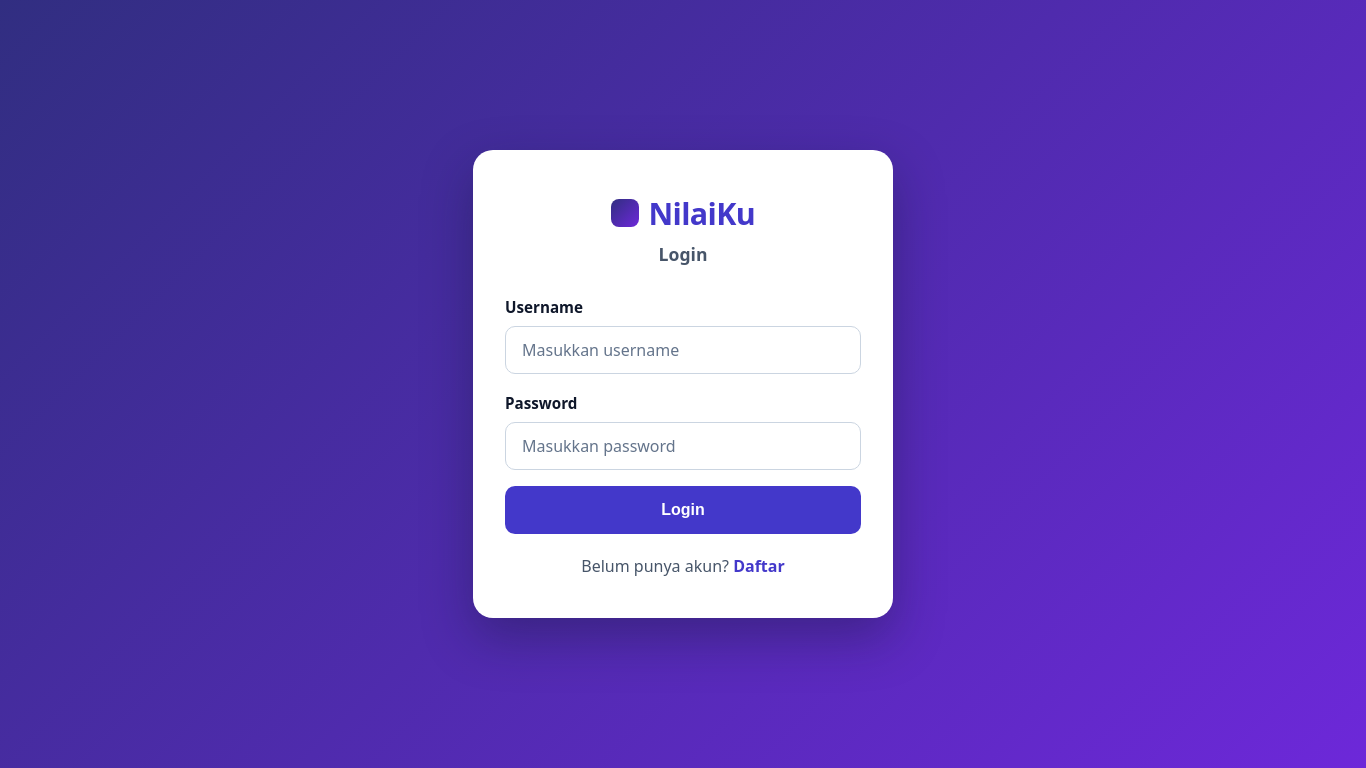
Test: Login › menampilkan pesan default jika server tidak merespons
The image size is (1366, 768).
Type "budi" into the field labelled "Username".
click(683, 350); type("budi")  # box [505,326,861,374]
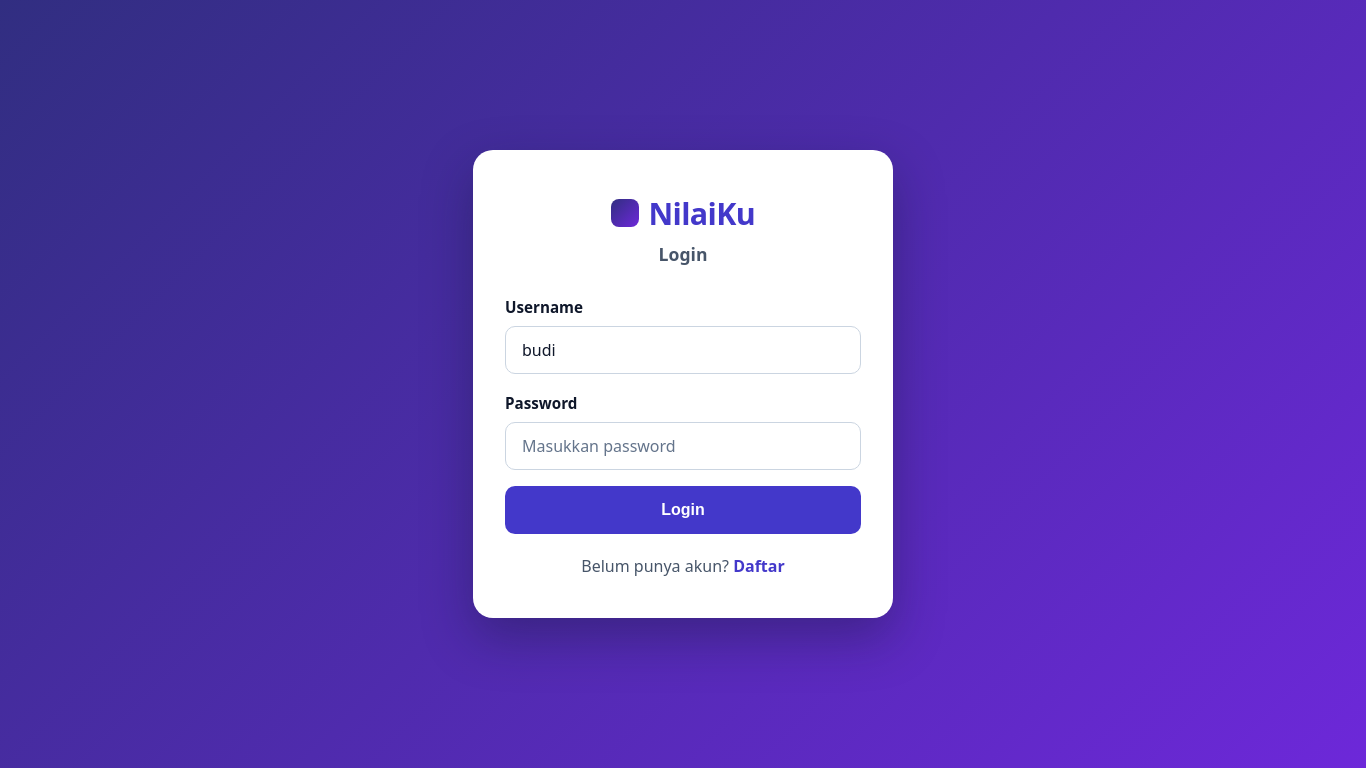
Type "salah" into the password field labelled "Password".
click(683, 446); type("salah")  # box [505,422,861,470]
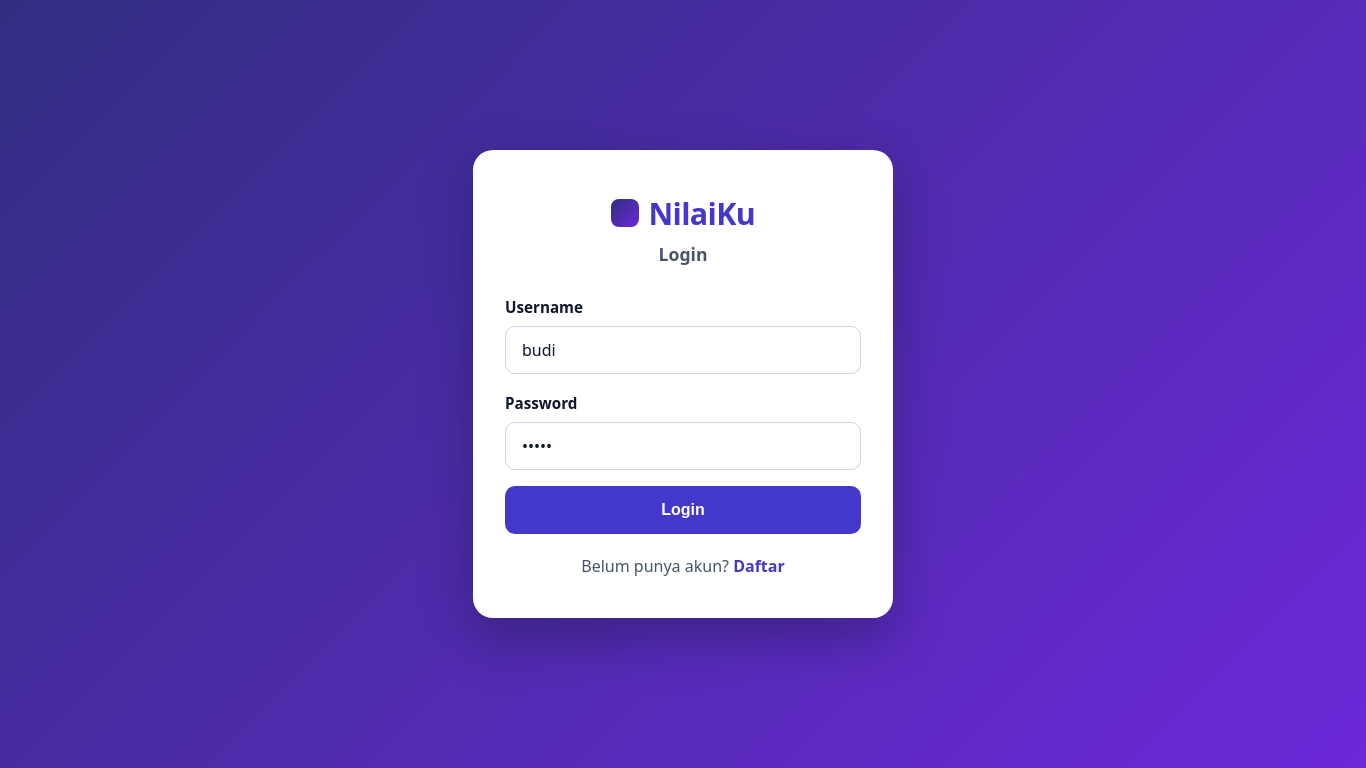
Submit the form "Login", box [505,296,861,534]
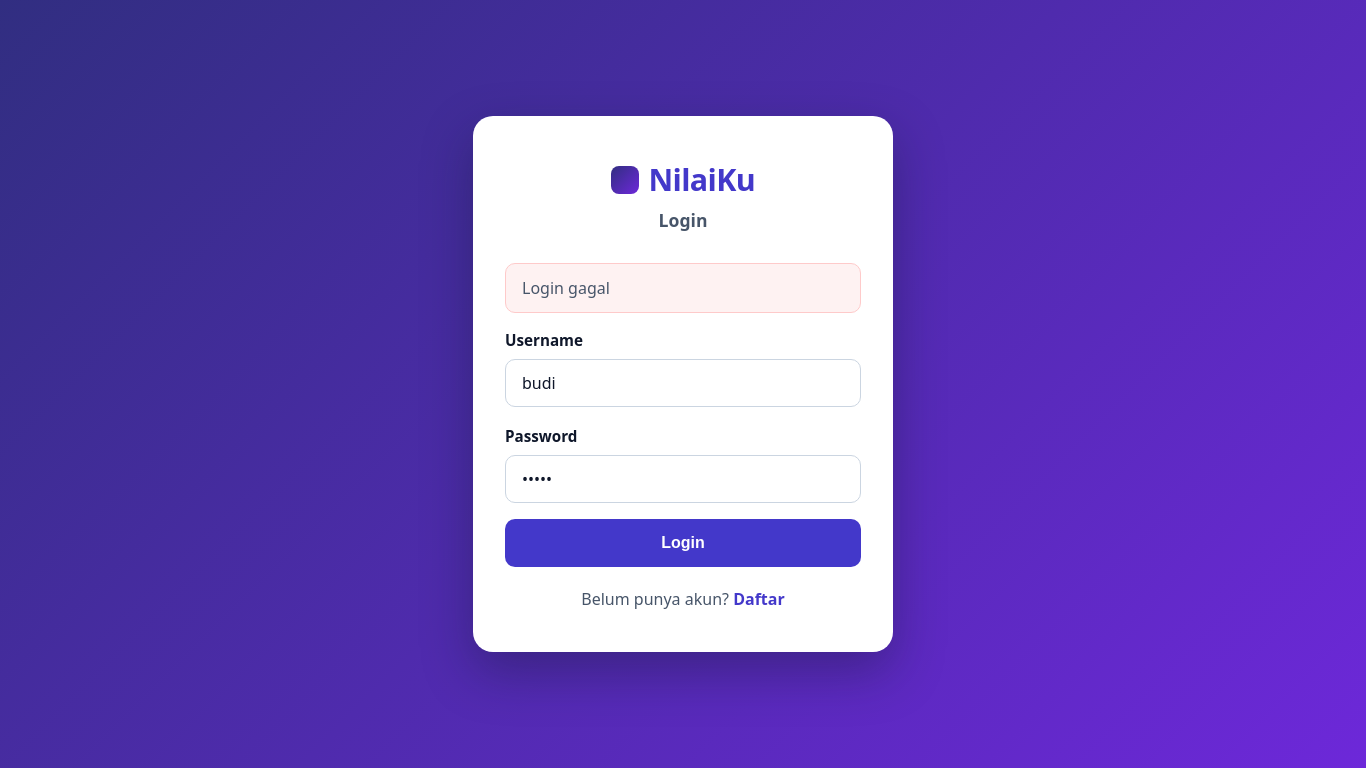
Now the text "Login gagal" is shown, box [505,263,861,313]
